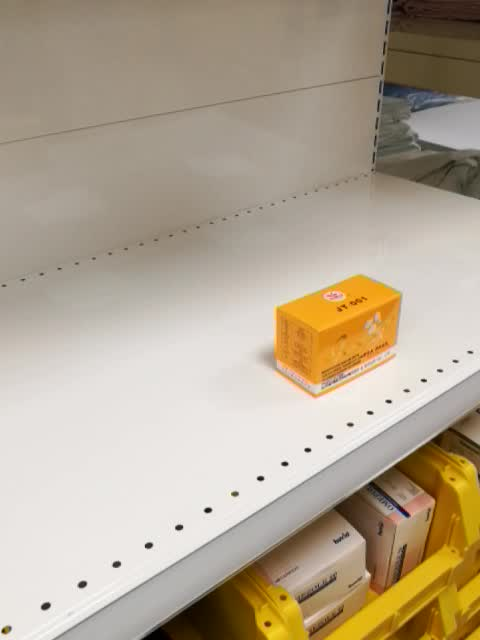jasminetea: (271, 267, 403, 401)
